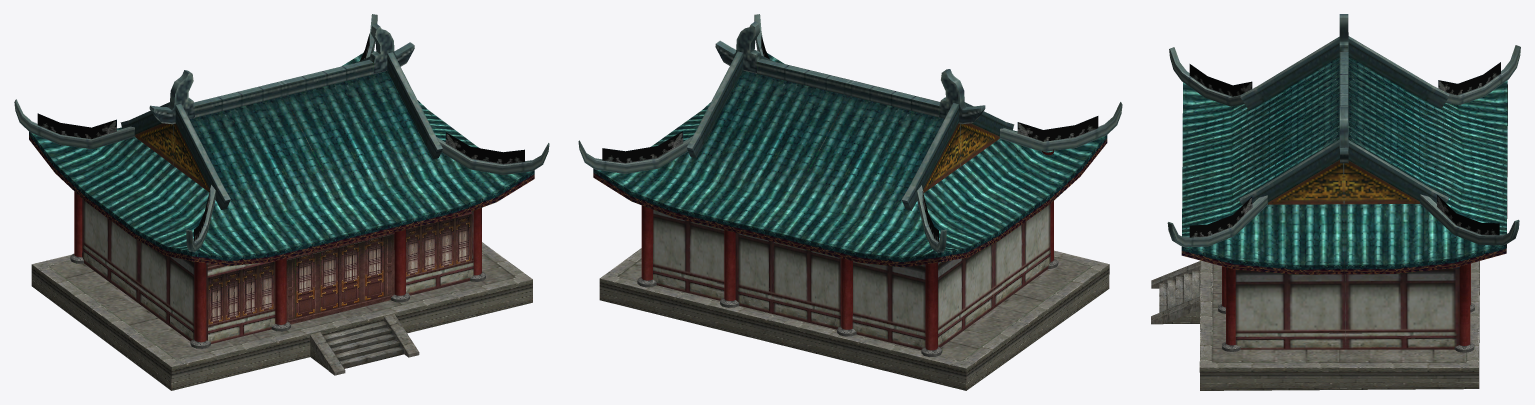
File: d_liangqi_fangzi02b_jz.FBX
3 renders of one model, left to right at view 1: azimuth 30°, elevation 25°; view 2: azimuth 150°, elevation 25°; view 3: azimuth 270°, elevation 25°, orthographic. The views are drawn at different scales.
Visible parts, largest first — view 1: d_lianqi_fangzi02b_jz_A01, d_lianqi_fangzi02b_jz_A02, d_lianqi_fangzi02b_jz_A03, men, d_lianqi_fangzi02b_jz_B01; view 2: d_lianqi_fangzi02b_jz_A01, d_lianqi_fangzi02b_jz_A02, d_lianqi_fangzi02b_jz_A03, d_lianqi_fangzi02b_jz_B01; view 3: d_lianqi_fangzi02b_jz_A01, d_lianqi_fangzi02b_jz_A02, d_lianqi_fangzi02b_jz_A03, d_lianqi_fangzi02b_jz_B01.
Boxes of the visible parts, bbox=[...] form: d_lianqi_fangzi02b_jz_A01: bbox=[14, 14, 549, 348]; d_lianqi_fangzi02b_jz_A02: bbox=[31, 199, 532, 390]; d_lianqi_fangzi02b_jz_A03: bbox=[49, 214, 515, 375]; men: bbox=[286, 234, 394, 324]; d_lianqi_fangzi02b_jz_B01: bbox=[37, 34, 524, 241]; d_lianqi_fangzi02b_jz_A01: bbox=[578, 14, 1122, 357]; d_lianqi_fangzi02b_jz_A02: bbox=[599, 204, 1109, 390]; d_lianqi_fangzi02b_jz_A03: bbox=[617, 257, 1091, 360]; d_lianqi_fangzi02b_jz_B01: bbox=[602, 35, 1098, 241]; d_lianqi_fangzi02b_jz_A01: bbox=[1167, 14, 1520, 352]; d_lianqi_fangzi02b_jz_A02: bbox=[1164, 260, 1479, 390]; d_lianqi_fangzi02b_jz_A03: bbox=[1151, 261, 1466, 362]; d_lianqi_fangzi02b_jz_B01: bbox=[1189, 62, 1500, 237].
Size of the model in its own units: 1148 by 741 by 1015.
